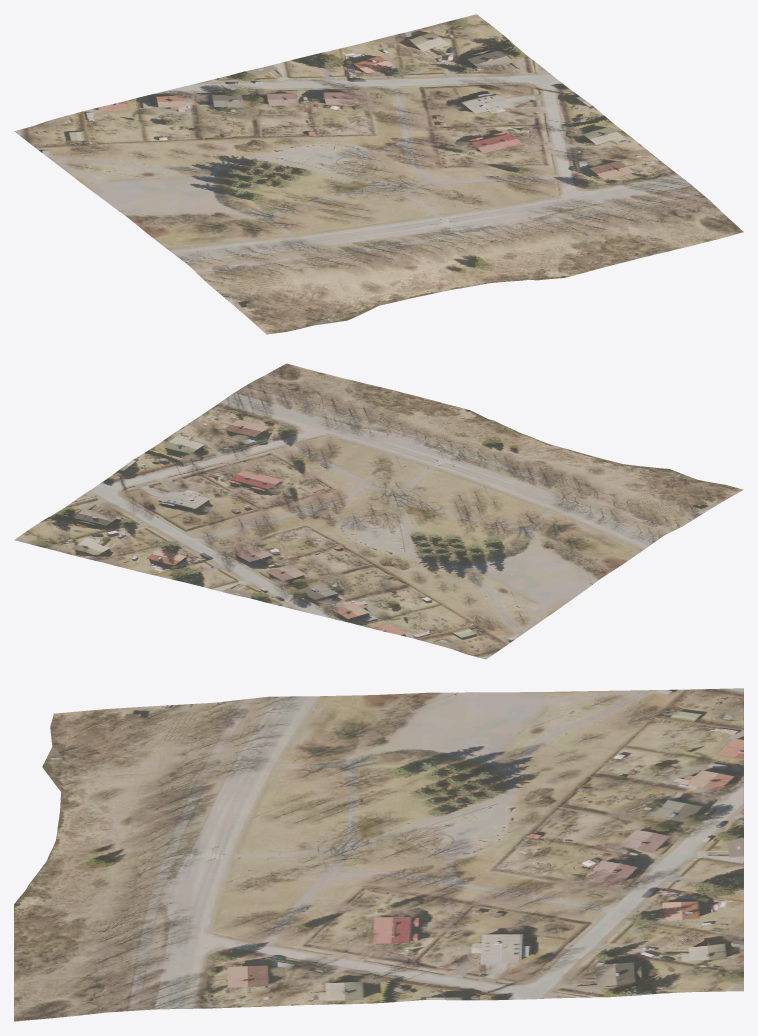
Rendered from CM_Terrain_24489639_6819794.fbx.
3 renders of one model, top to bottom at view 1: azimuth 30°, elevation 25°; view 2: azimuth 150°, elevation 25°; view 3: azimuth 270°, elevation 25°, orthographic. The views are drawn at different scales.
Parts seen in each view (by area): view 1: CM_Terrain_24489639_6819794_LOD0; view 2: CM_Terrain_24489639_6819794_LOD0; view 3: CM_Terrain_24489639_6819794_LOD0.
Boxes of the visible parts, bbox=[...] form: CM_Terrain_24489639_6819794_LOD0: bbox=[14, 14, 743, 334]; CM_Terrain_24489639_6819794_LOD0: bbox=[14, 363, 743, 659]; CM_Terrain_24489639_6819794_LOD0: bbox=[14, 688, 743, 1021].
Size of what is drawn, in the model's own units: 205 by 10.38 by 205.
